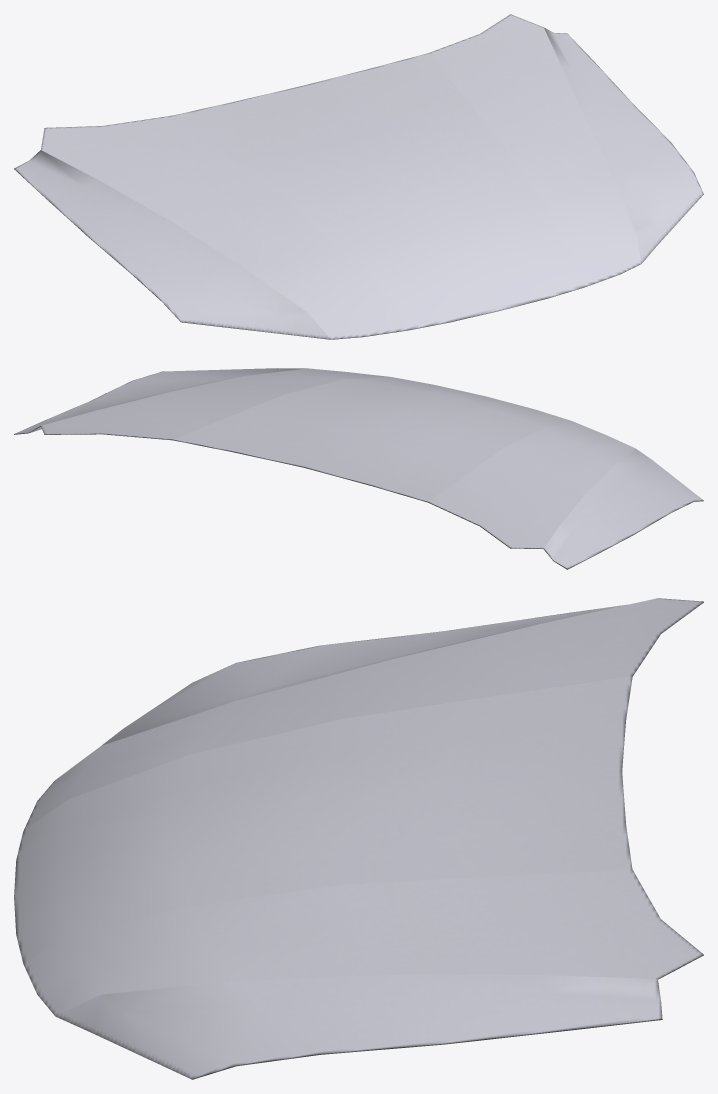
File: pqianchegai.FBX
3 renders of one model, top to bottom at view 1: azimuth 30°, elevation 25°; view 2: azimuth 150°, elevation 25°; view 3: azimuth 270°, elevation 25°, orthographic. The views are drawn at different scales.
Parts seen in each view (by area): view 1: pqianchegai; view 2: pqianchegai; view 3: pqianchegai.
Boxes of the visible parts, x1,y1,x2,y2 form: pqianchegai: (14,14,703,339); pqianchegai: (14,368,703,569); pqianchegai: (14,598,703,1079).
Bounding box in the file's own units: 884 × 126 × 615.
